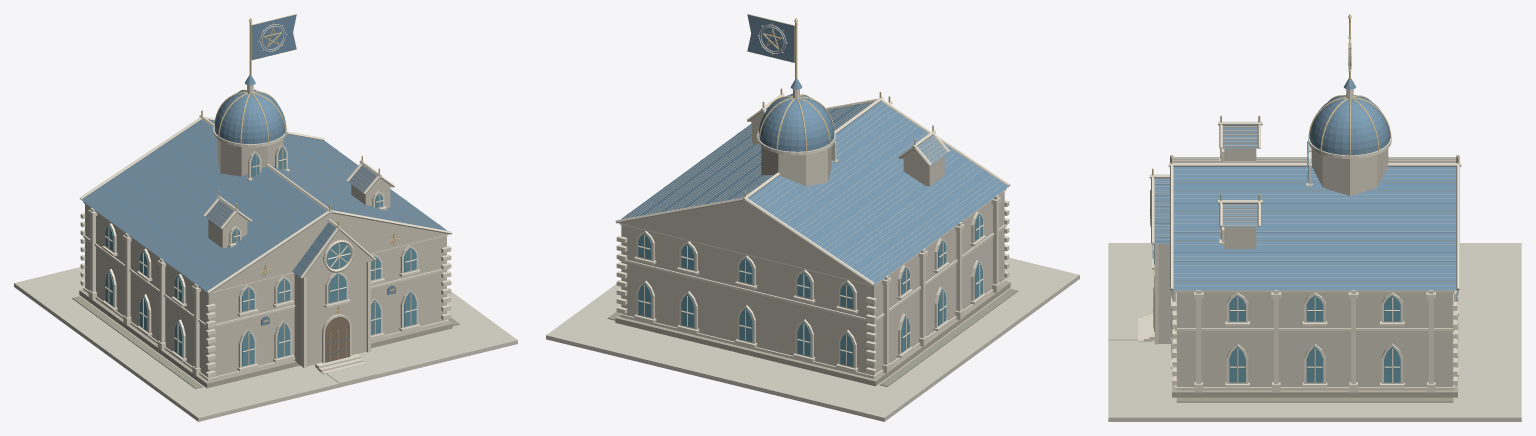
Rendered from ArcaneAcademy_Lv3.fbx.
3 renders of one model, left to right at view 1: azimuth 30°, elevation 25°; view 2: azimuth 150°, elevation 25°; view 3: azimuth 270°, elevation 25°, orthographic. The views are drawn at different scales.
Parts seen in each view (by area): view 1: Roof surfaces.015, Fixed 26m plot.015, Main school walls.015, Roof courses.010, Gable infill.010, Window glass.015, Projecting entrance bay.015, Window frame.015, Blue central dome.004, Gable verge.010, Stone stringcourse.015, School foundation.015 (+14 smaller); view 2: Roof surfaces.015, Main school walls.015, Fixed 26m plot.015, Gable infill.010, Roof courses.010, Window glass.015, Window frame.015, Stone stringcourse.015, Blue central dome.004, School foundation.015, Decor side pilasters.015, Gable verge.010 (+9 smaller); view 3: Roof surfaces.015, Fixed 26m plot.015, Main school walls.015, Roof courses.010, Blue central dome.004, Window glass.015, Octagonal observatory drum.004, Stone stringcourse.015, School foundation.015, Window frame.015, Decor side pilasters.015, Gable verge.010 (+13 smaller).
Boxes of the visible parts, x1,y1,x2,y2 form: Roof surfaces.015: (81, 119, 446, 292); Fixed 26m plot.015: (14, 267, 517, 421); Main school walls.015: (85, 204, 446, 381); Roof courses.010: (85, 120, 443, 288); Gable infill.010: (212, 178, 447, 291); Window glass.015: (105, 146, 416, 366); Projecting entrance bay.015: (294, 262, 366, 366); Window frame.015: (105, 144, 418, 367); Blue central dome.004: (214, 90, 286, 143); Gable verge.010: (79, 116, 452, 293); Stone stringcourse.015: (83, 202, 448, 380); School foundation.015: (79, 289, 452, 388); Roof surfaces.015: (621, 101, 1008, 284); Main school walls.015: (621, 191, 1004, 378); Fixed 26m plot.015: (546, 257, 1079, 421); Gable infill.010: (620, 112, 947, 283); Roof courses.010: (624, 102, 1004, 280); Window glass.015: (638, 214, 982, 366); Window frame.015: (636, 141, 983, 368); Stone stringcourse.015: (619, 188, 1006, 378); Blue central dome.004: (758, 94, 834, 151); School foundation.015: (615, 281, 1010, 386); Decor side pilasters.015: (627, 132, 998, 364); Gable verge.010: (615, 96, 1010, 285); Roof surfaces.015: (1153, 125, 1457, 290); Fixed 26m plot.015: (1108, 243, 1521, 421); Main school walls.015: (1176, 292, 1453, 390); Roof courses.010: (1154, 125, 1456, 285); Blue central dome.004: (1309, 95, 1390, 155); Window glass.015: (1154, 139, 1457, 382); Octagonal observatory drum.004: (1311, 148, 1388, 196); Stone stringcourse.015: (1175, 290, 1454, 389); School foundation.015: (1172, 369, 1457, 397); Window frame.015: (1173, 145, 1456, 383); Decor side pilasters.015: (1196, 290, 1433, 383); Gable verge.010: (1151, 124, 1459, 290).
Size of the model in its own units: 26 by 22.25 by 26.
